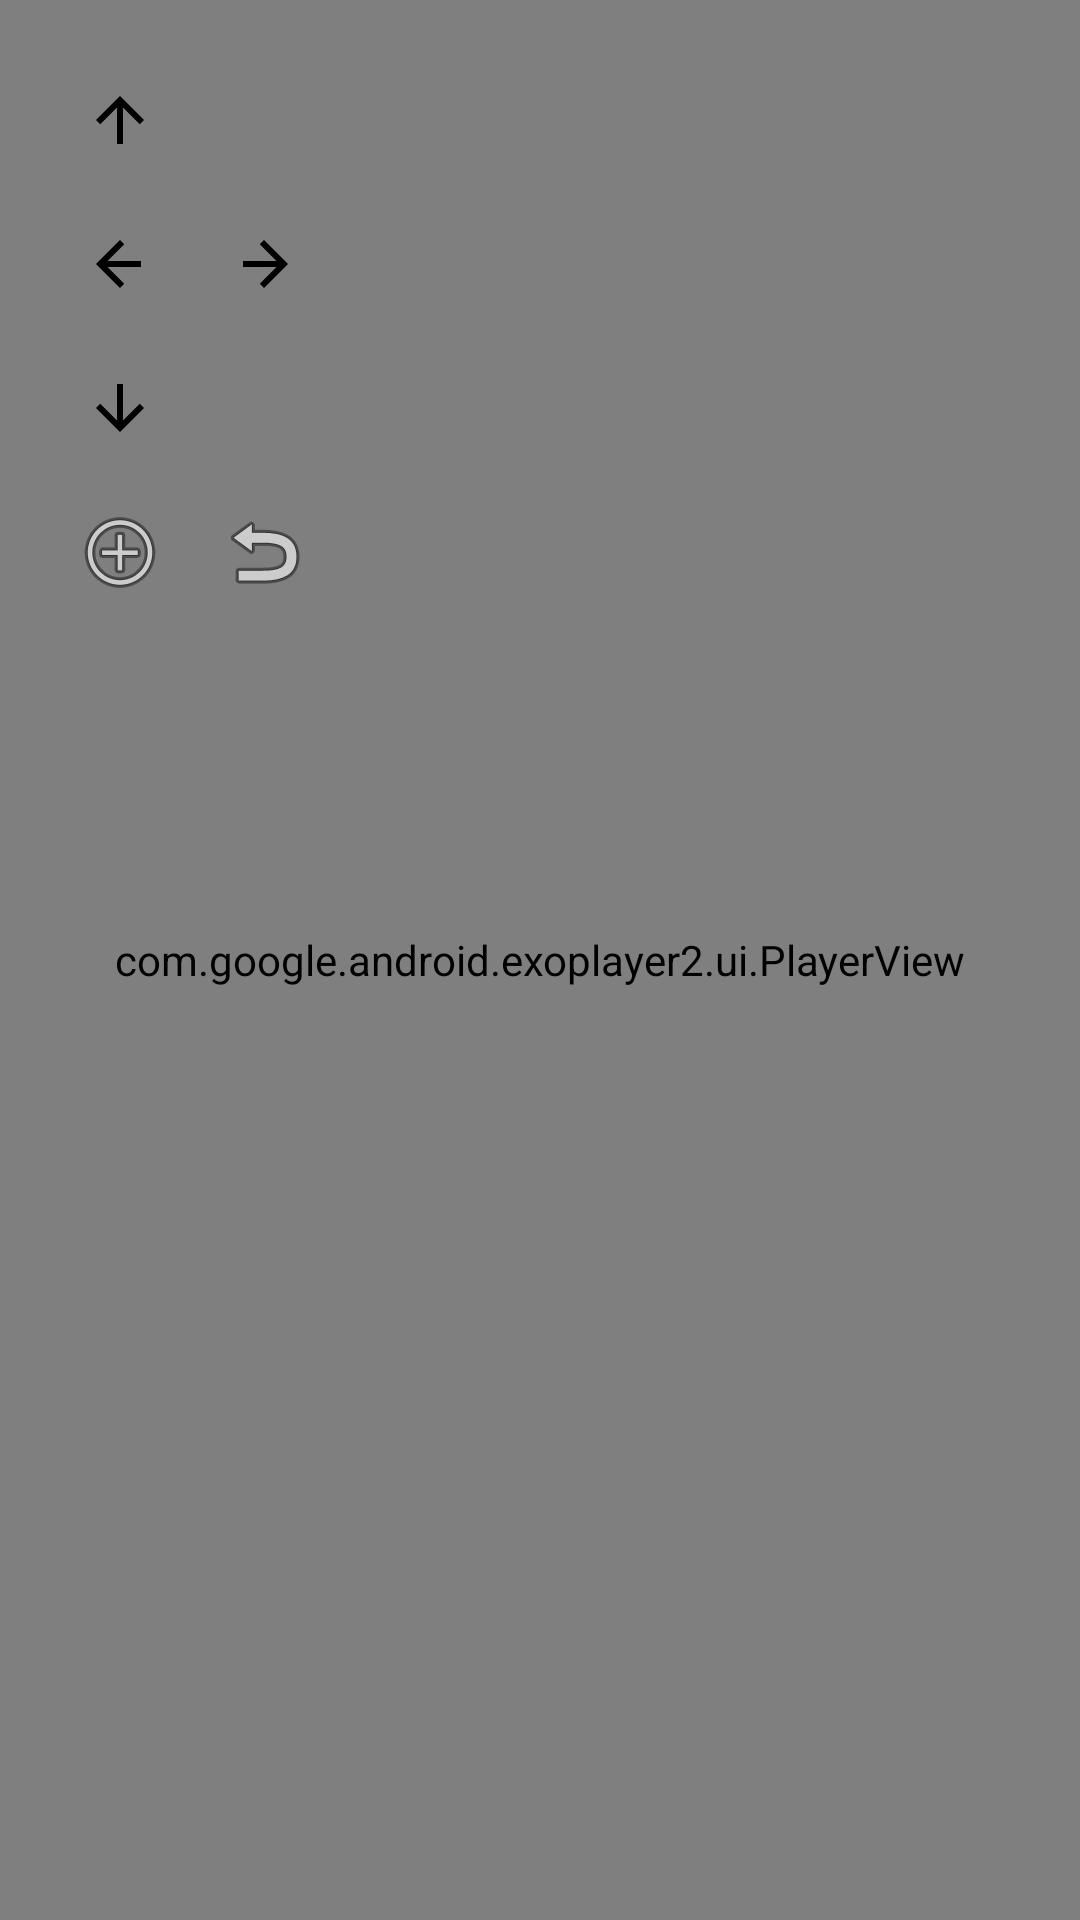

Icons on this 1080 x 1920 Android screen, each with the point to tap as (x=x, y=y):
add: (x=120, y=552)
arrow back: (x=118, y=264)
arrow downward: (x=120, y=408)
arrow forward: (x=265, y=264)
arrow upward: (x=120, y=120)
revert: (x=265, y=553)
